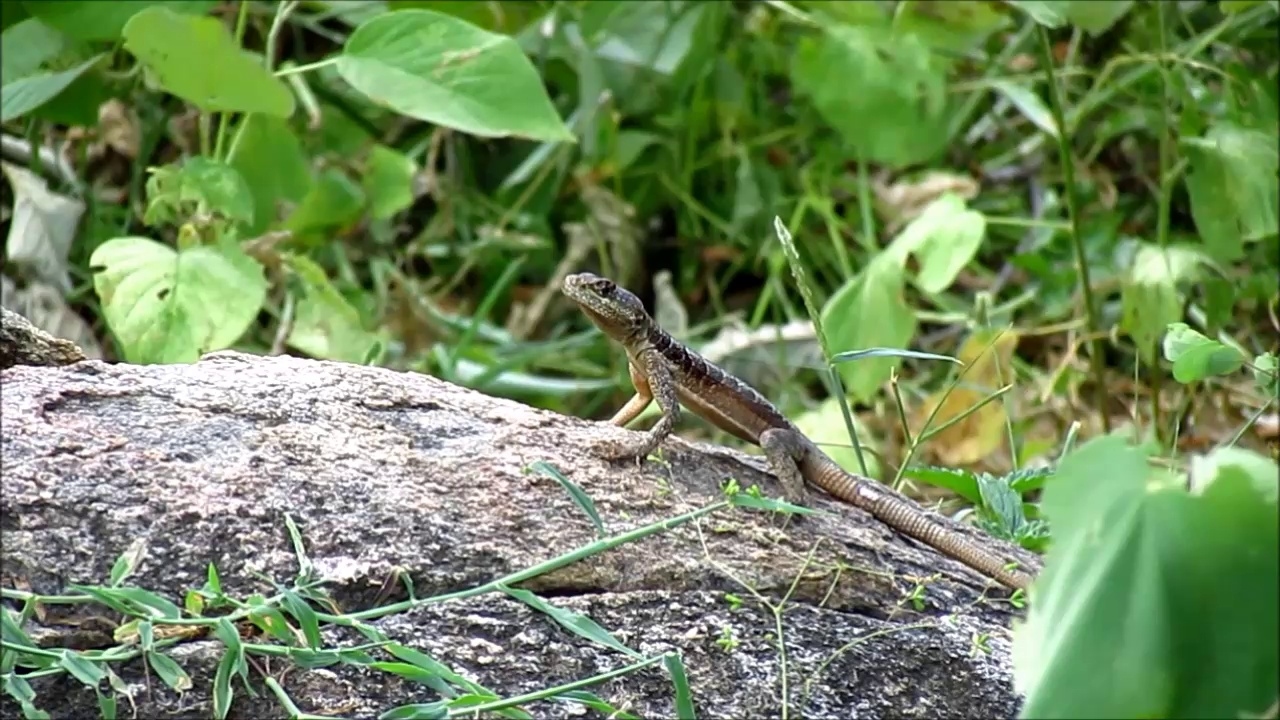body: (601, 318, 1029, 595)
head: (560, 271, 646, 345)
